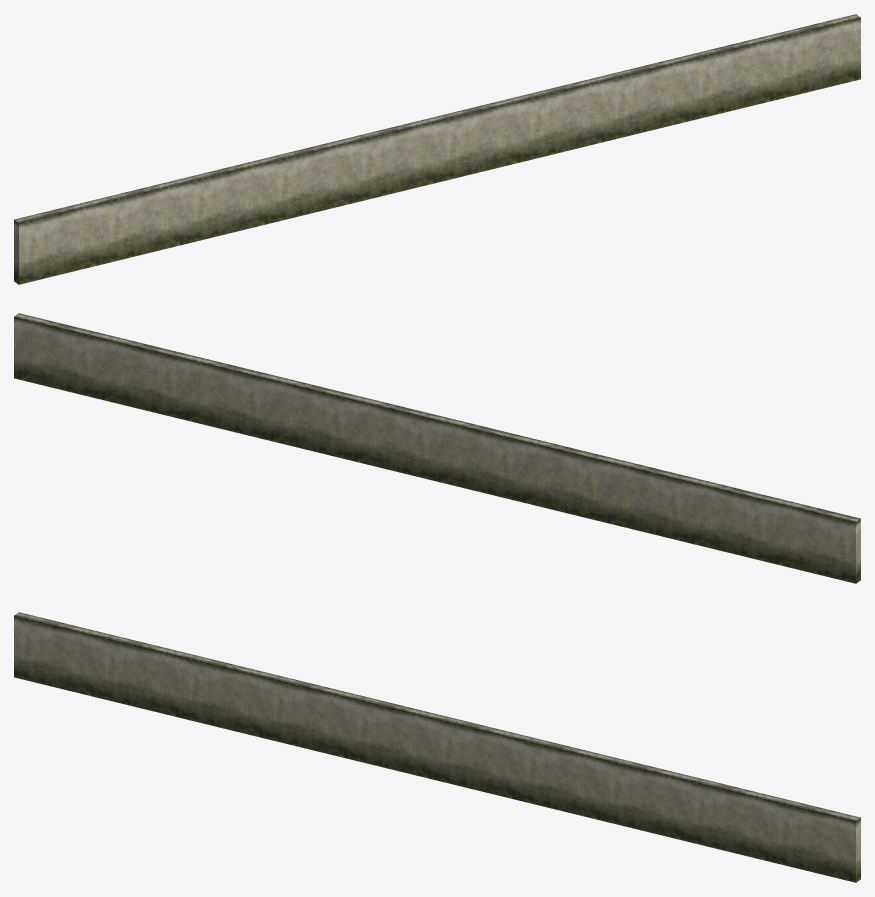
File: LowWallStucco_100.fbx
3 renders of one model, top to bottom at view 1: azimuth 30°, elevation 25°; view 2: azimuth 150°, elevation 25°; view 3: azimuth 330°, elevation 25°, orthographic.
Parts seen in each view (by area): view 1: LowWall_high_LowWallMesh4; view 2: LowWall_high_LowWallMesh4; view 3: LowWall_high_LowWallMesh4.
Boxes of the visible parts, x1=… form: LowWall_high_LowWallMesh4: x1=14, y1=14, x2=860, y2=284; LowWall_high_LowWallMesh4: x1=14, y1=313, x2=860, y2=583; LowWall_high_LowWallMesh4: x1=14, y1=612, x2=860, y2=882.
Bounding box in the file's own units: 10000 × 700 × 100.
1 material, 1 textured.
